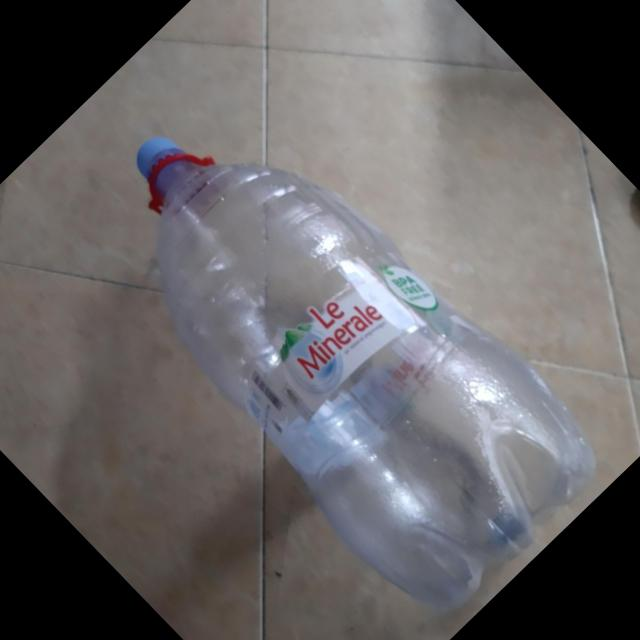Galon: (46, 54, 622, 637)
